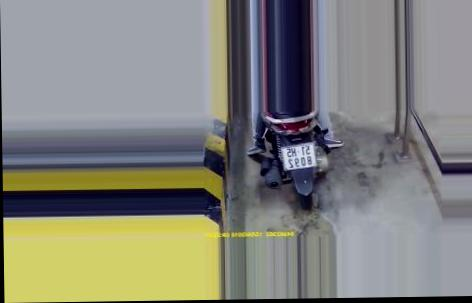License_Plate: (279, 139, 319, 173)
